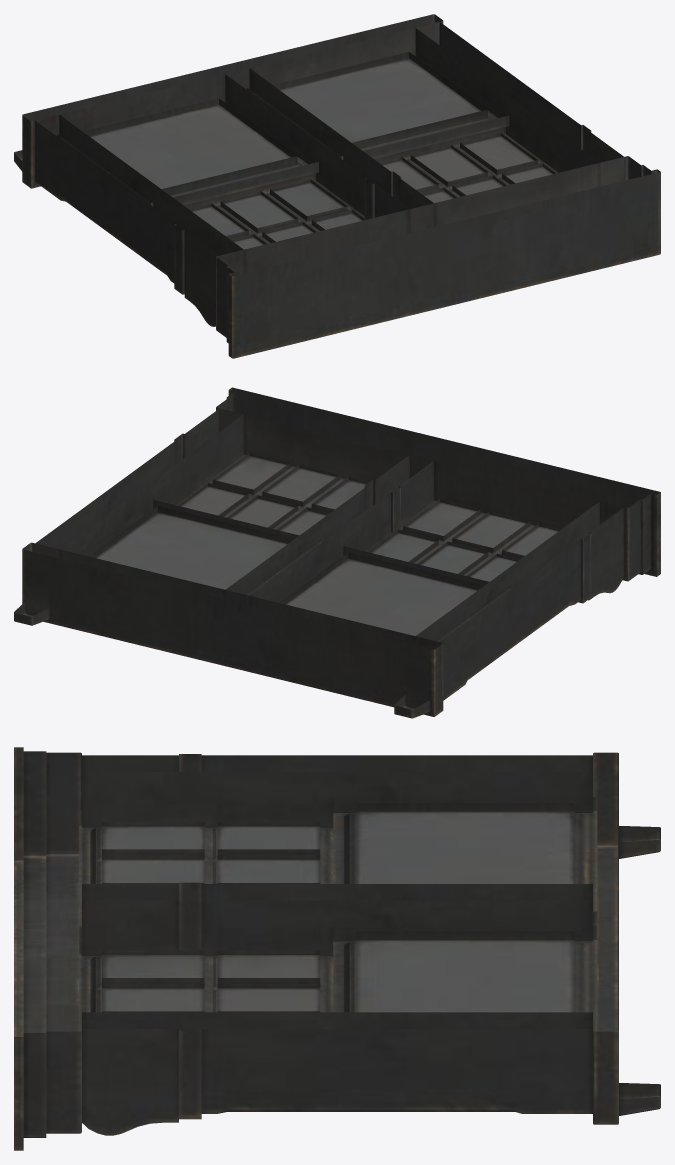
File: window_centered_large_02.gltf
3 renders of one model, top to bottom at view 1: azimuth 30°, elevation 25°; view 2: azimuth 150°, elevation 25°; view 3: azimuth 270°, elevation 25°, orthographic. The views are drawn at different scales.
Parts seen in each view (by area): view 1: window_centered_large_02; view 2: window_centered_large_02; view 3: window_centered_large_02.
Part boxes in pixels (x1,y1,x2,y2): window_centered_large_02: (14, 14, 660, 358); window_centered_large_02: (14, 387, 660, 718); window_centered_large_02: (14, 747, 660, 1150).
Bounding box in the file's own units: 2.12 × 0.39 × 2.
Materials: 2 (2 with a texture image).
